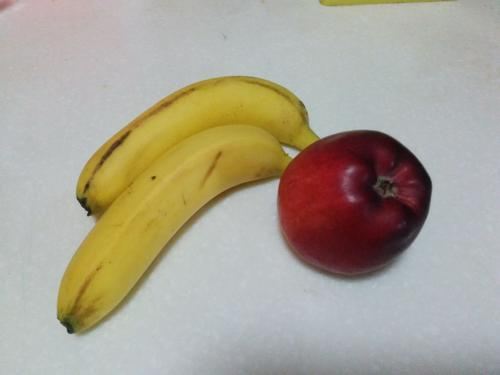Other: (57, 125, 292, 334), (75, 77, 321, 214)
